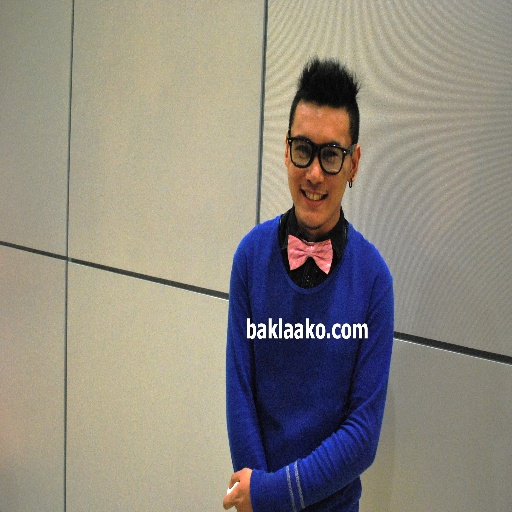hand: (222, 466, 252, 511)
